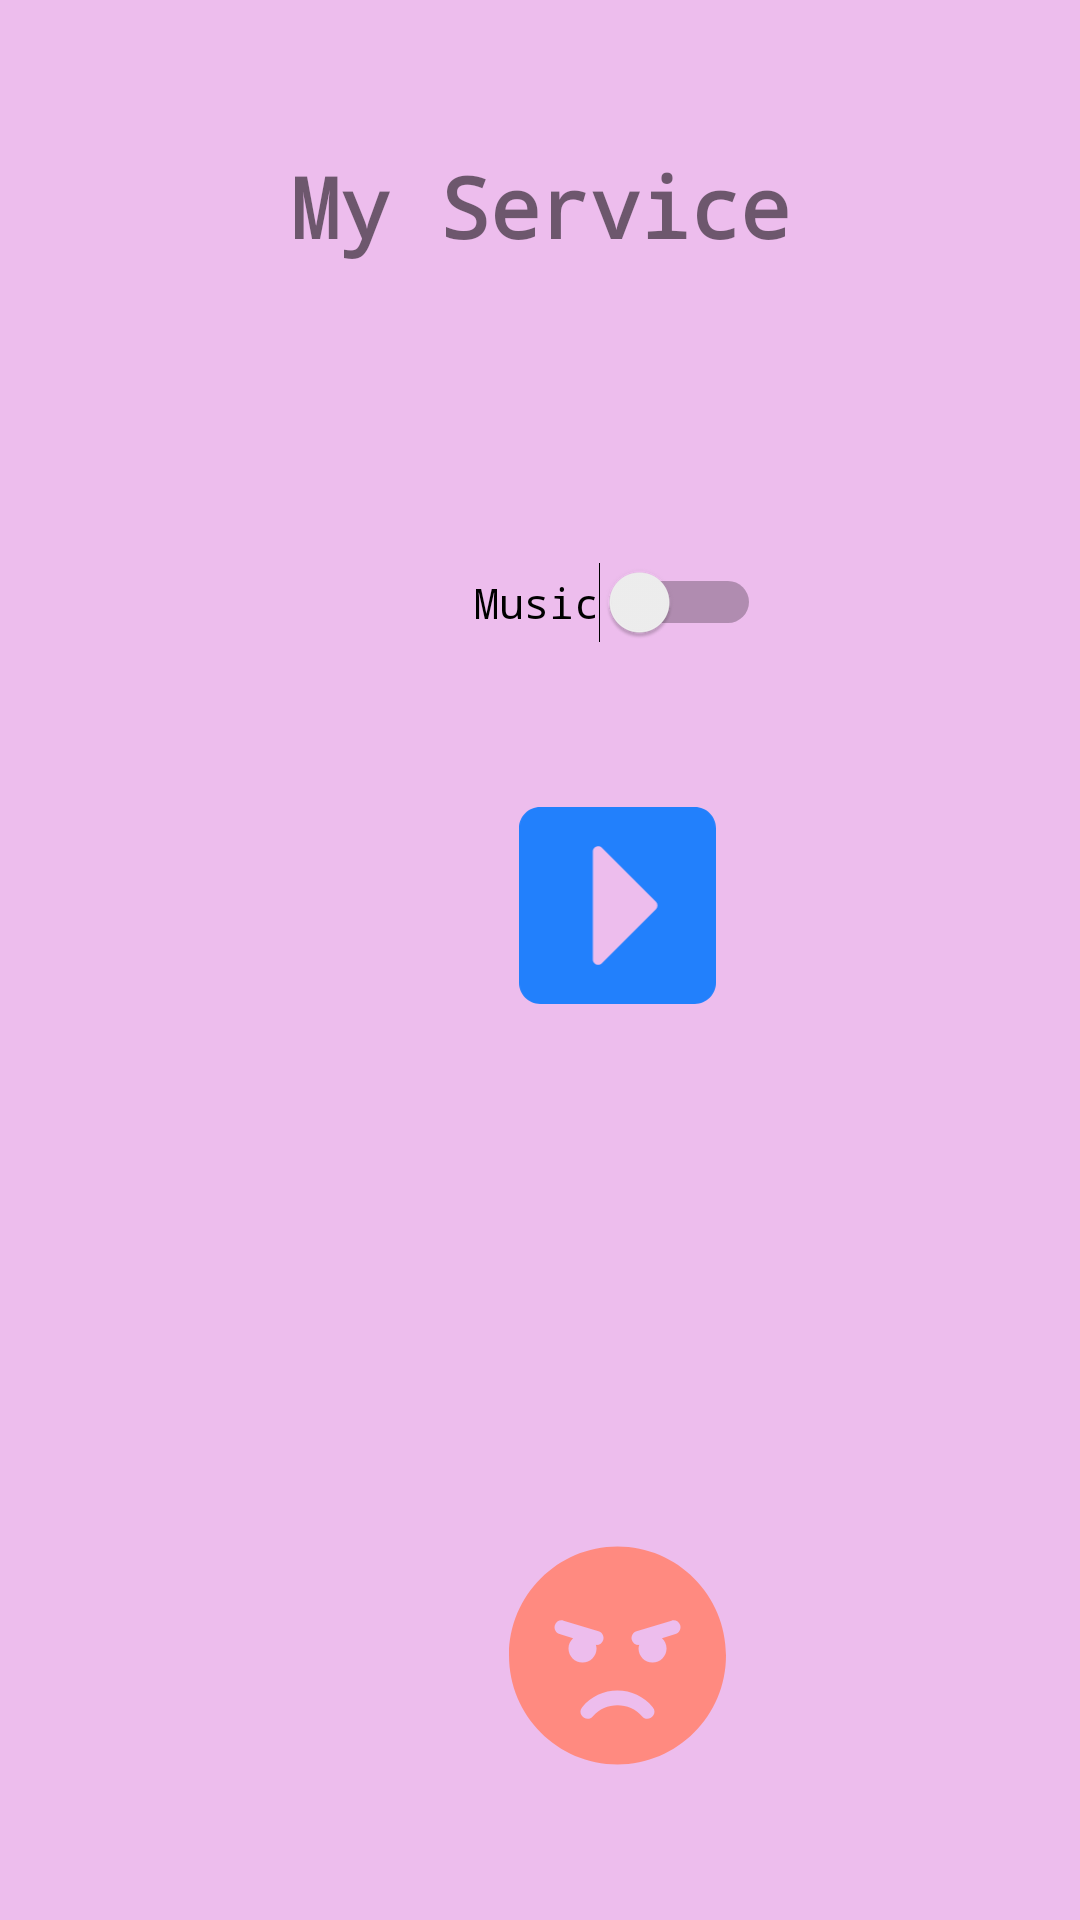

Screen size 1080px x 1920px. Icon name, then its box in pixels as (x1, y1, x2, y2):
angry: (509, 1546, 726, 1765)
caret square right: (519, 807, 716, 1004)
